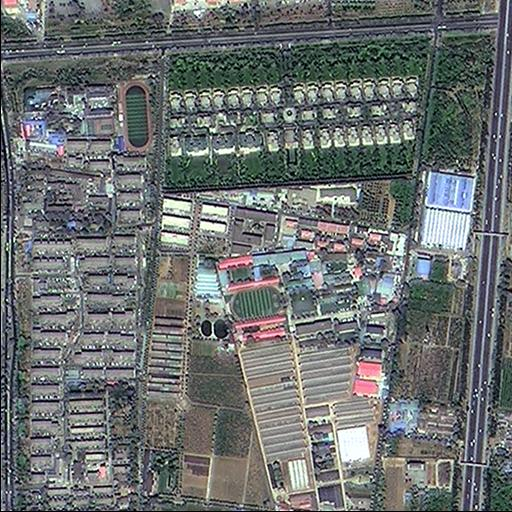school: (213, 248, 361, 342), (64, 78, 156, 156)
